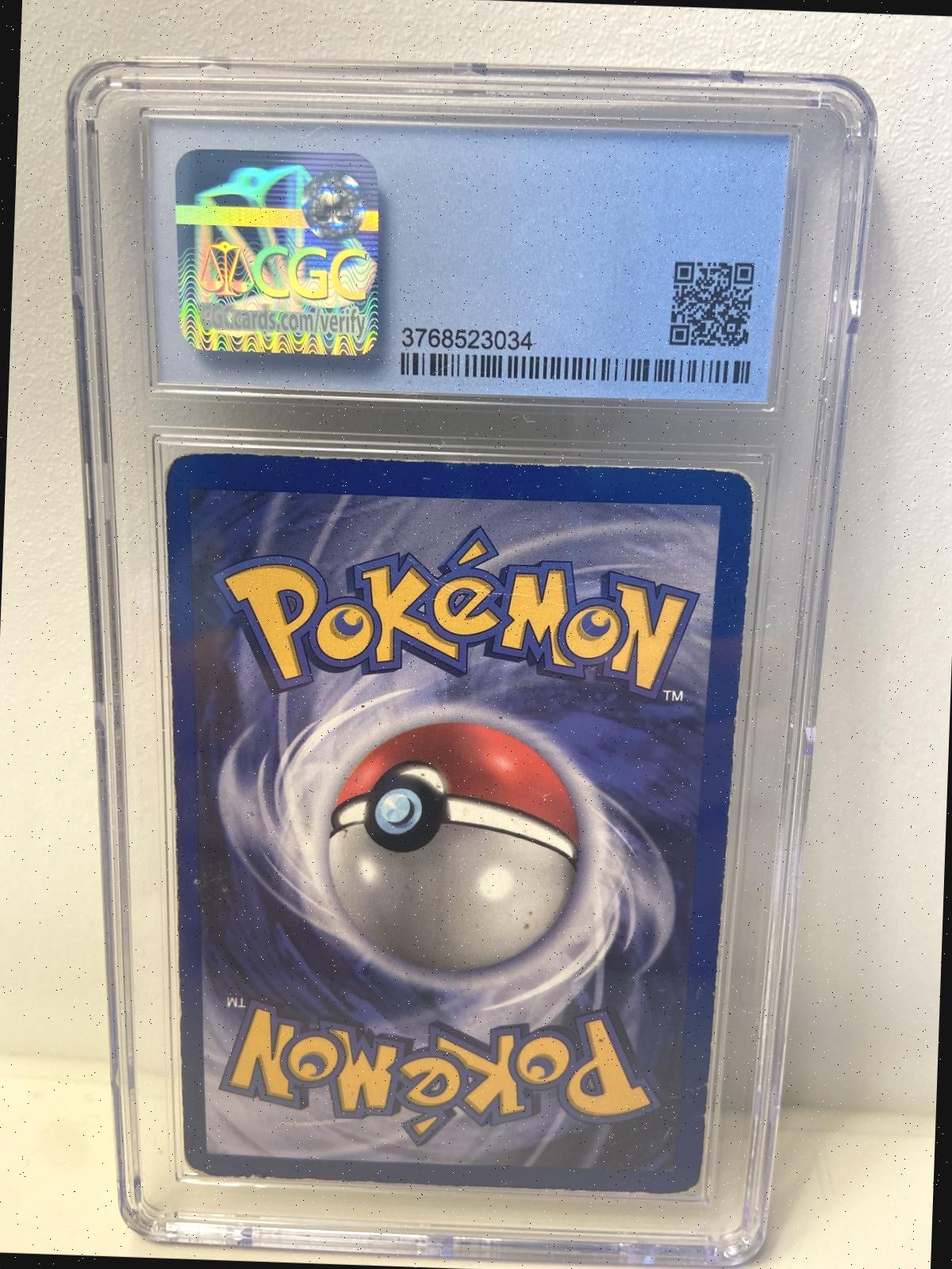card-2UtV: (164, 452, 756, 1195)
